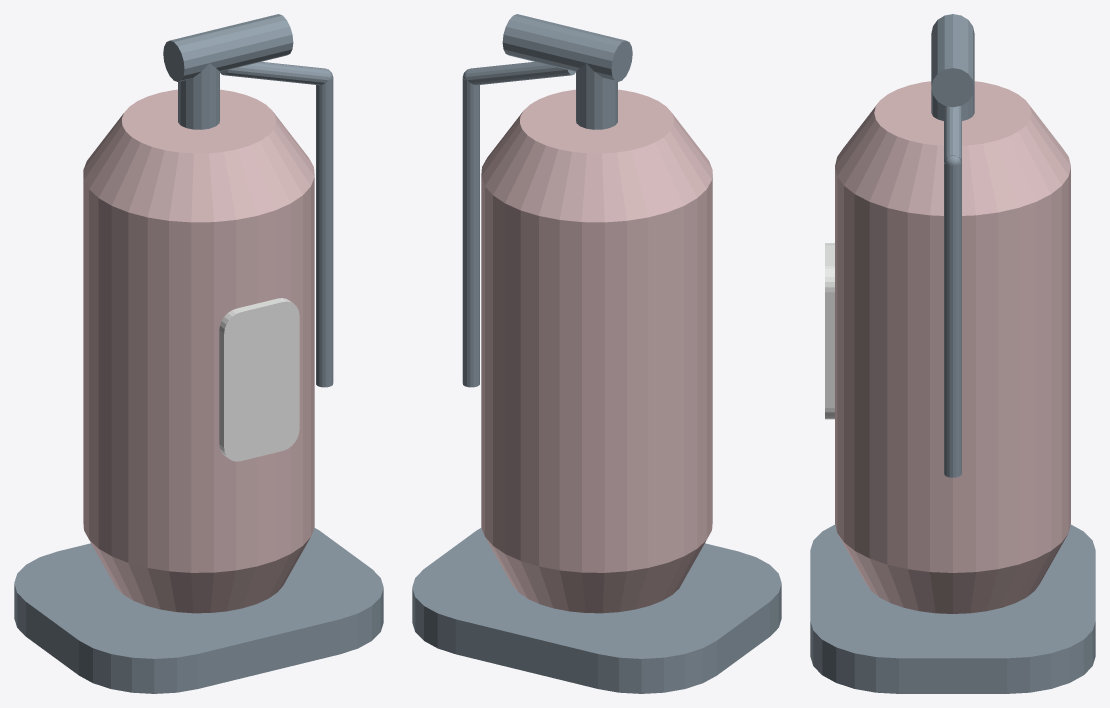
The model's file is fire_extinguisher.glb.
3 renders of one model, left to right at view 1: azimuth 30°, elevation 25°; view 2: azimuth 150°, elevation 25°; view 3: azimuth 270°, elevation 25°, orthographic.
Parts seen in each view (by area): view 1: decor_b58487_matte, decor_455665_metal, decor_d8dcd8_matte; view 2: decor_b58487_matte, decor_455665_metal; view 3: decor_b58487_matte, decor_455665_metal, decor_d8dcd8_matte.
Boxes of the visible parts, x1,y1,x2,y2 form: decor_b58487_matte: (83,89,314,613); decor_455665_metal: (14,14,383,693); decor_d8dcd8_matte: (219,298,299,461); decor_b58487_matte: (481,89,712,613); decor_455665_metal: (412,14,781,693); decor_b58487_matte: (835,81,1070,613); decor_455665_metal: (810,14,1095,693); decor_d8dcd8_matte: (825,243,834,419).
Bounding box in the file's own units: 0.35 × 0.667 × 0.29.
